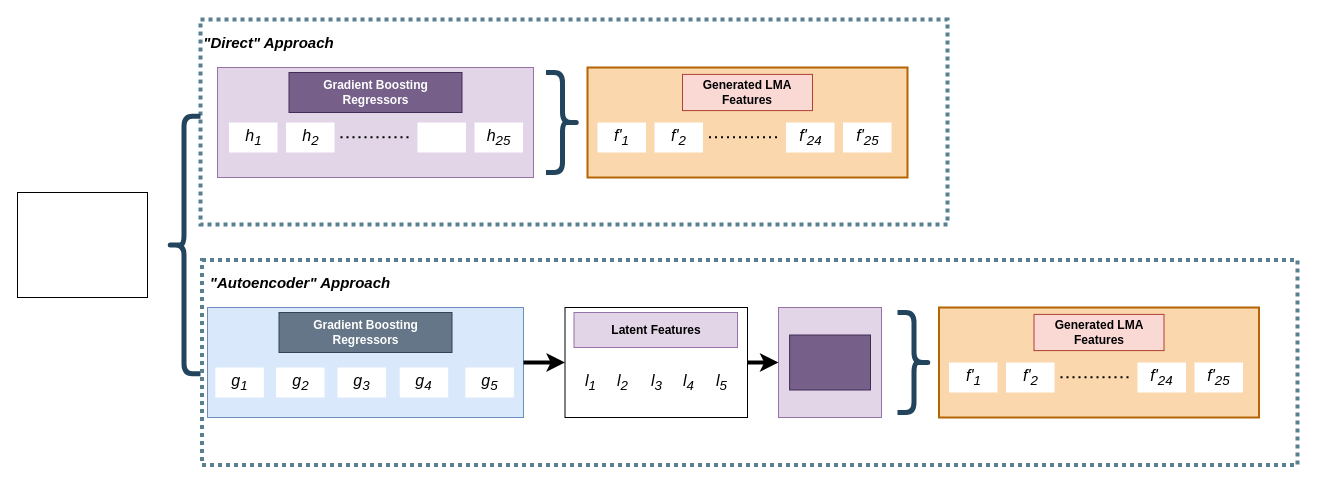
The diagram is 1317 pixels wide and 484 high, and some of its shapes have lost their labels. The shapes that lost their labels are listed below. From the top down, each one's centre as x and y in pixels, then its label:
At point 441,137: "h 24".
At point 82,245: "User specified Desired PAD coordinates".
At point 829,362: "Autoencoder Decoder".
